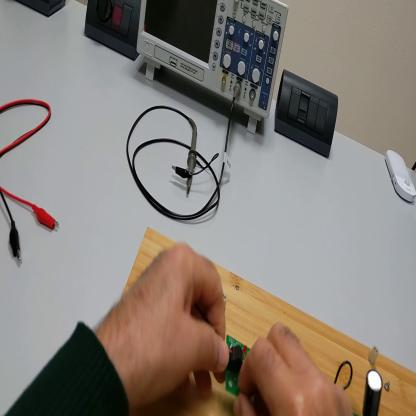hand: (110, 241, 231, 410), (235, 328, 354, 415)
high voltage board: (196, 307, 383, 415)
oscilloscope: (138, 4, 289, 135)
oscilloscope probe tip: (185, 124, 199, 196)
socket: (86, 2, 142, 62), (15, 3, 67, 17)
working area: (125, 226, 416, 415)
